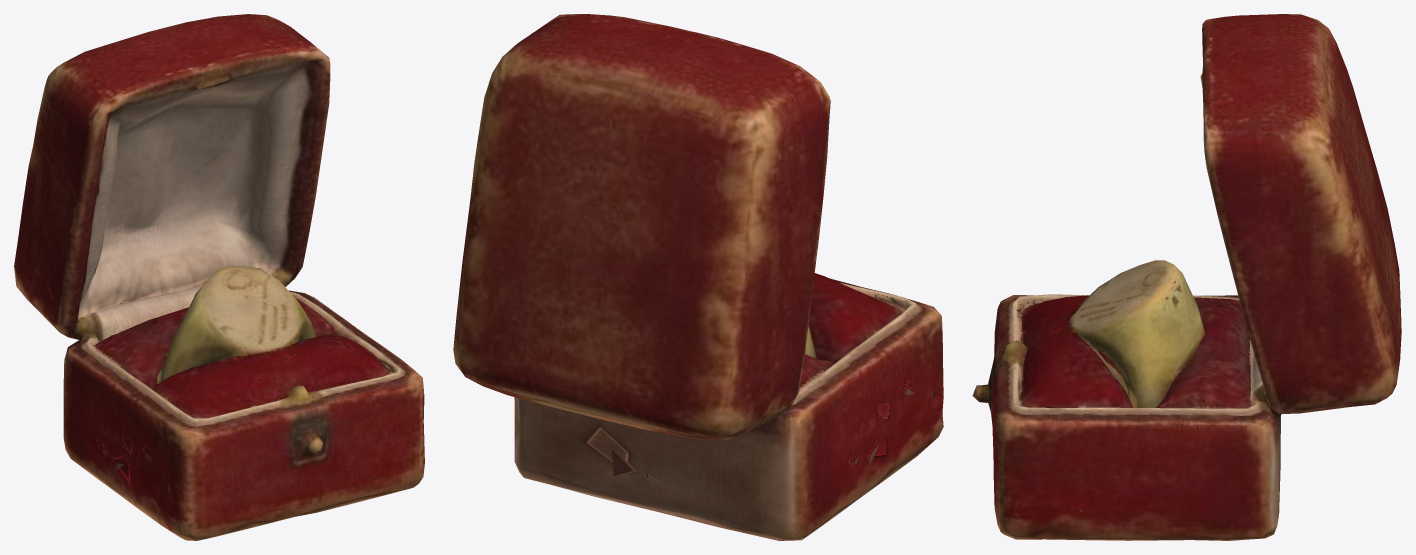
Rendered from ring-box.glb.
3 renders of one model, left to right at view 1: azimuth 30°, elevation 25°; view 2: azimuth 150°, elevation 25°; view 3: azimuth 270°, elevation 25°, orthographic. The views are drawn at different scales.
Visible parts, largest first — view 1: Mesh_0; view 2: Mesh_0; view 3: Mesh_0.
Part boxes in pixels (box(x1,y1,x2,y2)): Mesh_0: box(14, 14, 424, 540); Mesh_0: box(453, 14, 943, 540); Mesh_0: box(972, 14, 1401, 540).
Size of the model in its own units: 0.6693 by 0.9999 by 0.9167.
1 material, 1 textured.
